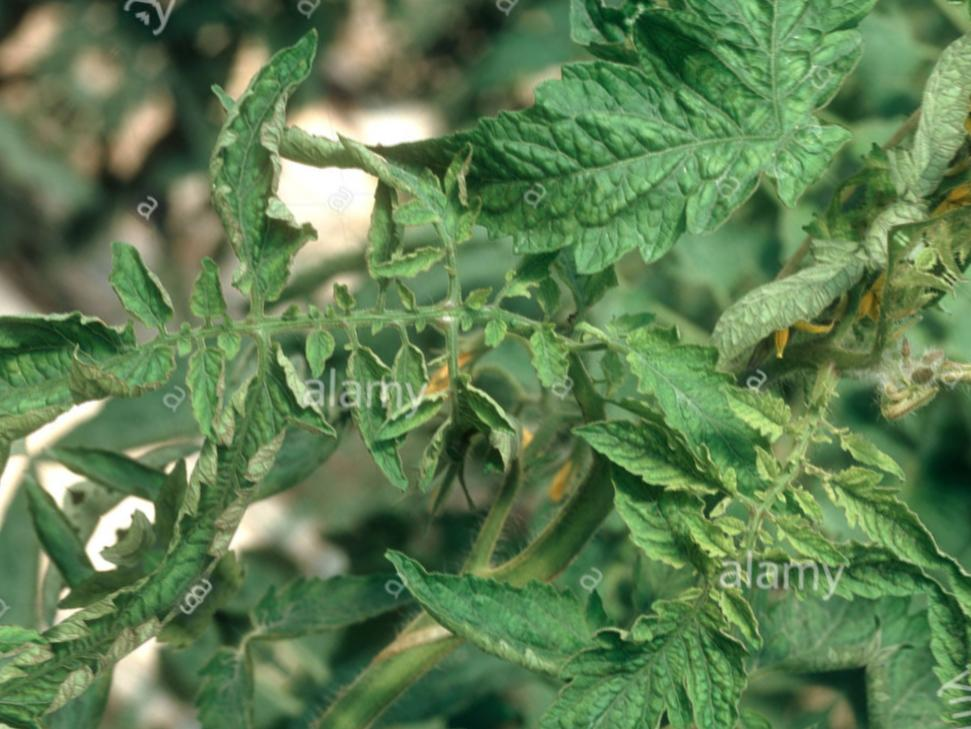Tomato leaf yellow virus: (390, 0, 857, 420), (0, 174, 217, 502), (476, 551, 797, 729), (794, 423, 971, 601)
